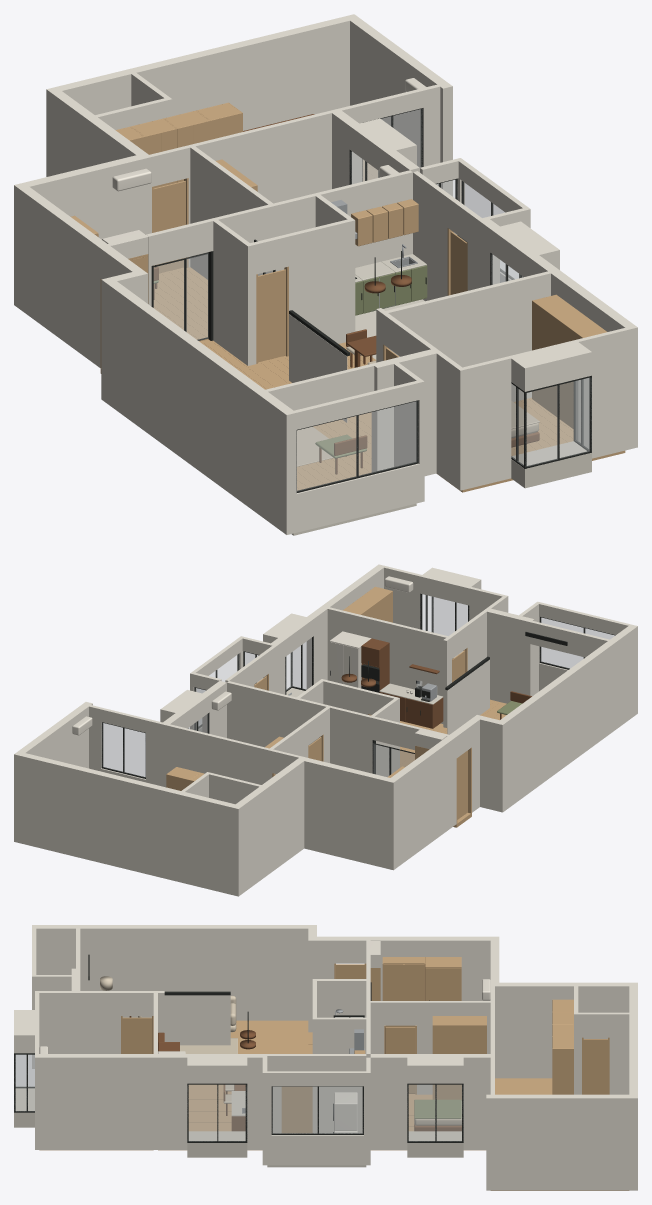
The model's file is whole_home_R10.4.glb.
3 renders of one model, top to bottom at view 1: azimuth 30°, elevation 25°; view 2: azimuth 150°, elevation 25°; view 3: azimuth 270°, elevation 25°, orthographic. The views are drawn at different scales.
Parts seen in each view (by area): view 1: wall_living_west_0, wall_A_north_0, wall_family_west_0, wall_CD_0, wall_A_south1_0, balconyA_south_glass, wall_family_north_0, wall_bath_kitchen_north_0, wall_A_east_0, wall_bath_south2_0, wall_D_south1_0, wall_D_south2_0 (+43 smaller); view 2: wall_A_north_0, wall_living_west_0, wall_family_north_0, wall_bath_kitchen_north_0, wall_A_west_0, wall_family_west_0, wall_A_south1_0, wall_CD_0, wall_balconyA_head2_0, wall_entry_step_0, wall_A_east_0, screen_fabric (+34 smaller); view 3: wall_living_west_0, wall_A_east_0, wall_D_east_0, wall_A_west_0, wall_D_west2_0, balconyB_east_glass, wall_family_west_0, wall_B_east2_0, screen_fabric, C_bay_east_glass, B_bay_east_glass, balconyB_east_sill (+48 smaller).
Boxes of the visible parts, bbox=[...] form: wall_living_west_0: bbox=[107, 281, 296, 534]; wall_A_north_0: bbox=[46, 14, 358, 176]; wall_family_west_0: bbox=[19, 187, 109, 367]; wall_CD_0: bbox=[380, 269, 560, 401]; wall_A_south1_0: bbox=[186, 103, 361, 267]; balconyA_south_glass: bbox=[297, 401, 416, 491]; wall_family_north_0: bbox=[14, 155, 151, 308]; wall_bath_kitchen_north_0: bbox=[211, 170, 412, 275]; wall_A_east_0: bbox=[348, 16, 452, 196]; wall_bath_south2_0: bbox=[286, 219, 350, 343]; wall_D_south1_0: bbox=[463, 356, 511, 489]; wall_D_south2_0: bbox=[576, 328, 628, 458]; wall_A_north_0: bbox=[14, 753, 242, 896]; wall_living_west_0: bbox=[500, 624, 637, 808]; wall_family_north_0: bbox=[298, 756, 397, 870]; wall_bath_kitchen_north_0: bbox=[227, 681, 374, 773]; wall_A_west_0: bbox=[235, 758, 305, 894]; wall_family_west_0: bbox=[391, 735, 456, 866]; wall_A_south1_0: bbox=[146, 719, 273, 787]; wall_CD_0: bbox=[321, 605, 447, 723]; wall_balconyA_head2_0: bbox=[487, 608, 534, 703]; wall_entry_step_0: bbox=[475, 715, 506, 812]; wall_A_east_0: bbox=[16, 702, 92, 768]; screen_fabric: bbox=[447, 659, 489, 734]; wall_living_west_0: bbox=[32, 925, 308, 1020]; wall_A_east_0: bbox=[486, 1094, 633, 1190]; wall_D_east_0: bbox=[35, 1054, 153, 1149]; wall_A_west_0: bbox=[495, 982, 633, 1078]; wall_D_west2_0: bbox=[35, 991, 120, 1053]; balconyB_east_glass: bbox=[272, 1087, 362, 1133]; wall_family_west_0: bbox=[366, 936, 490, 1000]; wall_B_east2_0: bbox=[370, 1054, 407, 1149]; screen_fabric: bbox=[141, 995, 230, 1045]; C_bay_east_glass: bbox=[189, 1085, 245, 1141]; B_bay_east_glass: bbox=[409, 1085, 461, 1141]; balconyB_east_sill: bbox=[271, 1135, 363, 1165].
Size of the model in its own units: 11.27 by 2.92 by 17.16.
